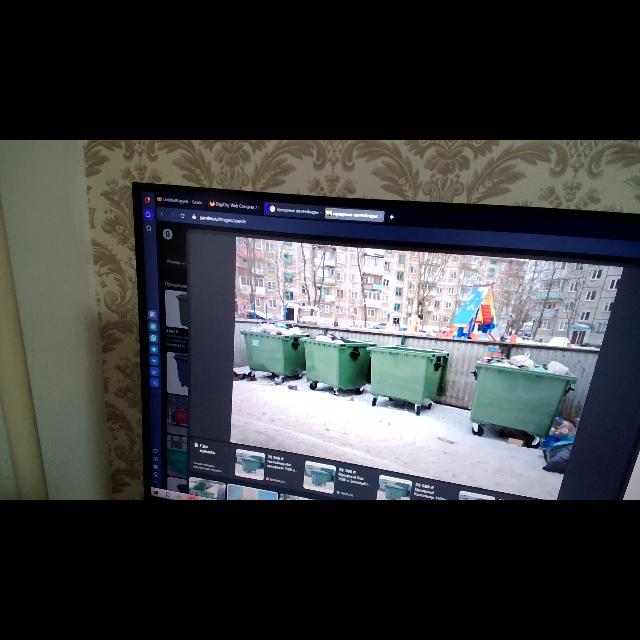Trash_Can_Closed: (470, 351, 578, 438)
Trash_Can_Empty: (366, 344, 449, 405)
Trash_Can_Full: (300, 333, 373, 390), (241, 322, 310, 377)
